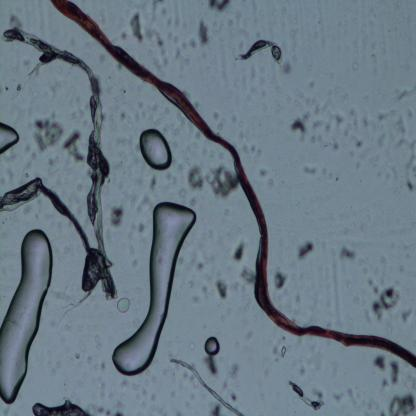Air bubble: (110, 200, 197, 378), (0, 231, 54, 405), (139, 128, 173, 170), (0, 120, 21, 154)
Background material: (144, 17, 172, 66), (134, 166, 163, 213), (31, 115, 64, 152), (370, 285, 404, 318), (207, 163, 236, 196), (62, 131, 87, 165), (387, 391, 416, 415), (270, 264, 290, 293), (310, 121, 331, 148), (188, 163, 206, 194), (129, 9, 144, 43), (346, 109, 364, 137), (293, 241, 316, 262), (89, 403, 125, 416), (365, 268, 382, 295), (290, 112, 308, 137), (227, 363, 238, 402), (109, 204, 125, 230), (230, 239, 247, 263), (397, 112, 407, 152), (149, 0, 168, 21), (336, 386, 358, 404), (197, 18, 210, 48), (257, 164, 273, 188), (202, 356, 219, 378), (338, 244, 357, 263), (238, 265, 258, 283), (213, 278, 229, 300), (132, 379, 148, 400), (208, 0, 231, 14), (282, 59, 295, 83), (373, 352, 387, 374), (114, 296, 131, 314), (370, 398, 387, 416), (389, 360, 400, 386), (241, 142, 261, 156), (177, 35, 188, 58), (214, 108, 225, 130), (396, 87, 411, 103), (208, 401, 224, 416), (403, 174, 416, 192), (304, 164, 320, 178), (71, 180, 88, 193), (377, 373, 388, 391), (411, 136, 416, 174), (372, 109, 386, 122), (200, 282, 210, 299), (334, 112, 342, 130), (279, 344, 288, 358), (355, 139, 365, 151), (188, 38, 198, 50), (119, 379, 132, 388), (137, 223, 147, 234), (96, 362, 108, 371), (301, 366, 309, 379), (335, 141, 344, 152), (194, 129, 200, 141), (196, 261, 204, 270), (121, 110, 126, 121), (74, 354, 80, 362)
Cellulose filter fibre: (0, 27, 120, 302), (0, 177, 97, 316), (168, 358, 246, 416), (232, 36, 283, 67), (287, 382, 324, 412), (29, 401, 92, 415), (202, 334, 220, 355)
Cotton: (50, 0, 416, 373)
